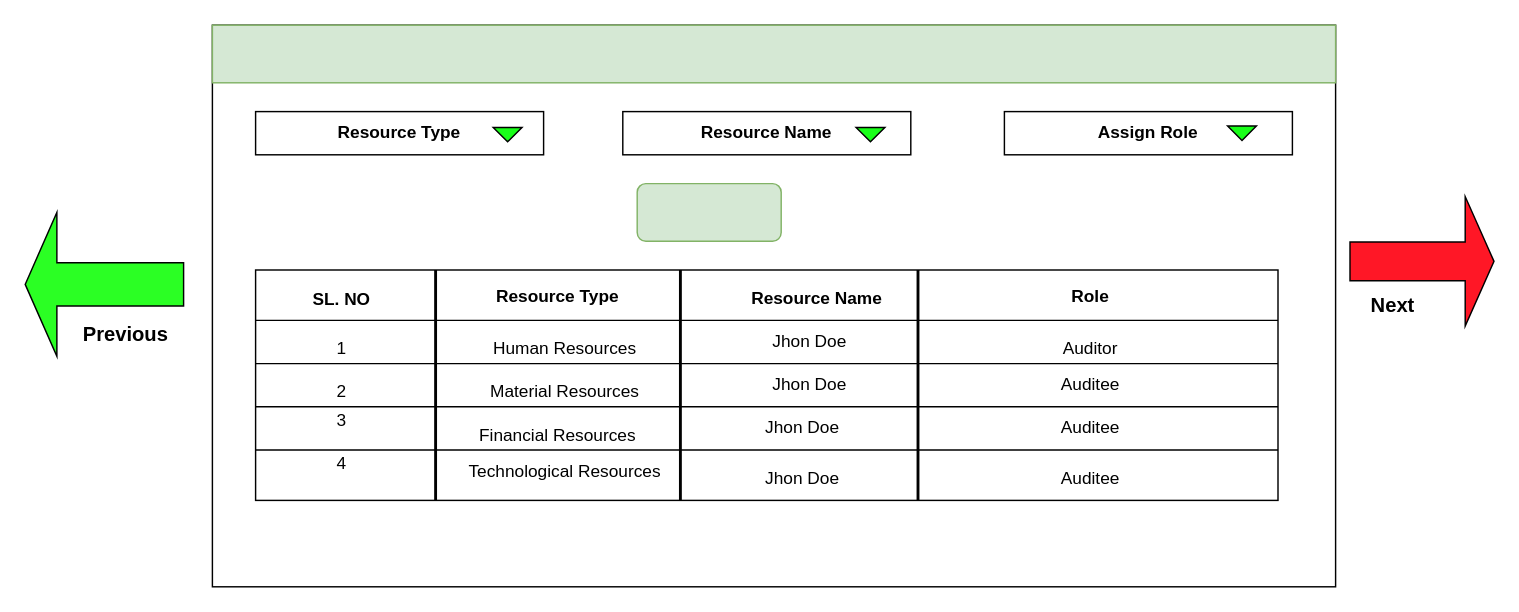
This 1519x612 diagram has some shape labels left out. The shapes that lost their labels are listed below. From the top down, each one's centre as x and y in pixels, then its label:
At [773,53]: "Require Resource".
At [708,211]: "Save".
